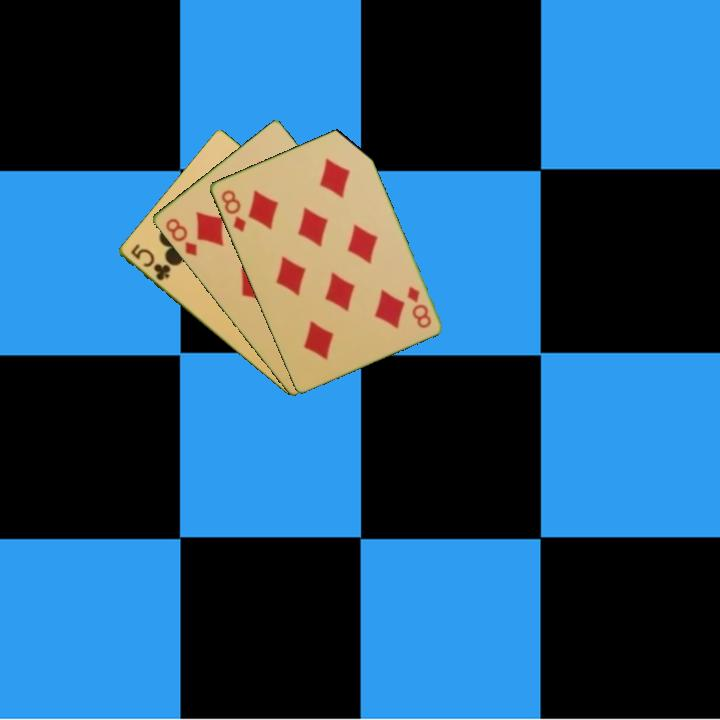5c: (127, 240, 173, 284)
8d: (161, 214, 200, 259), (217, 186, 249, 235), (403, 283, 434, 331)
